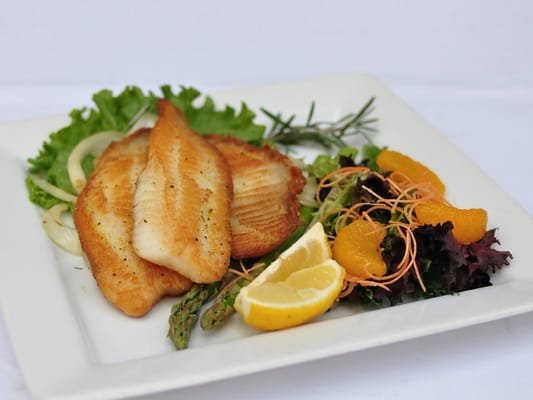taco: (236, 258, 346, 331), (375, 148, 447, 205)
